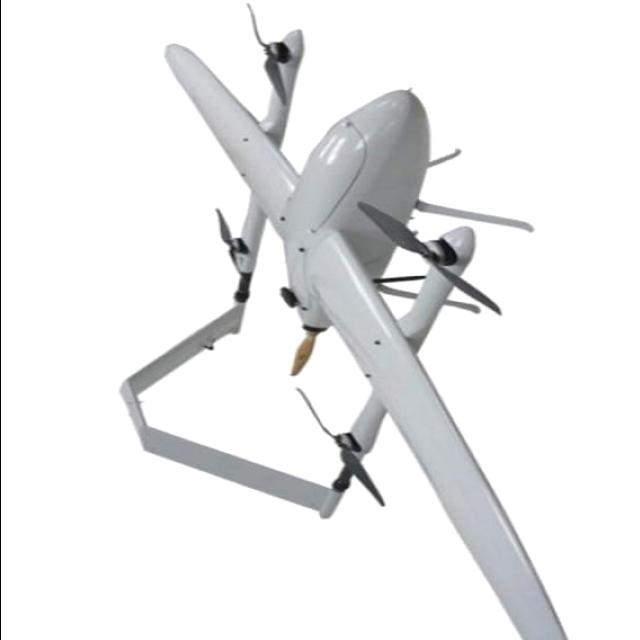plane: (116, 2, 589, 640)
